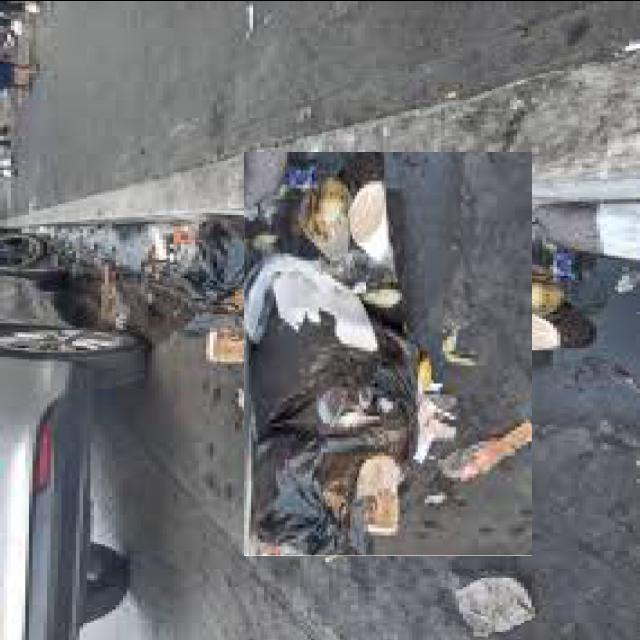Trashbag: (247, 371, 397, 574), (178, 216, 251, 314)
